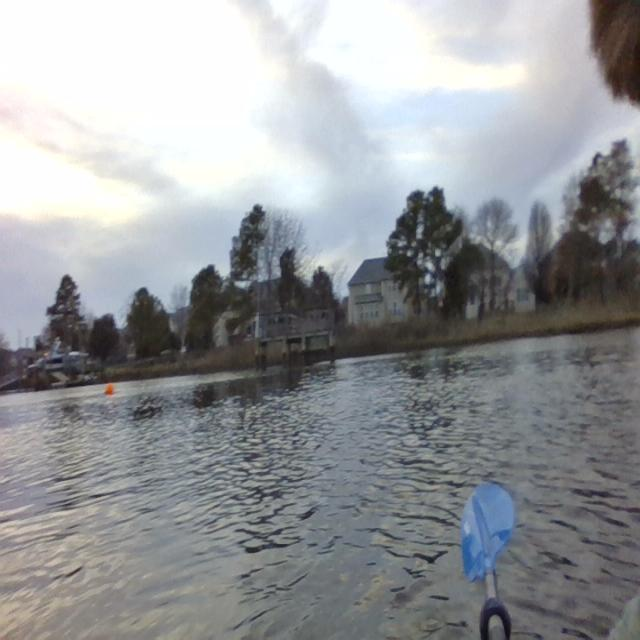Buoy: (104, 382, 116, 396)
